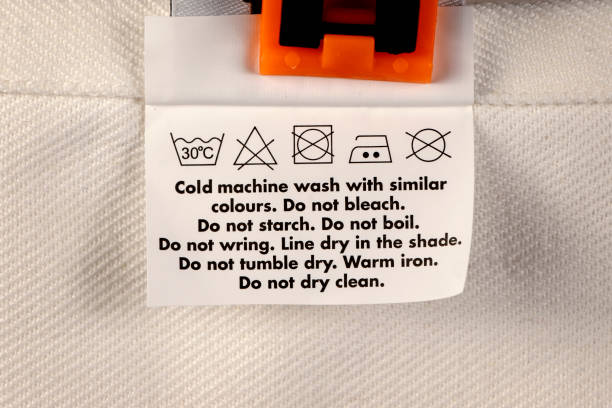ER_iron_medium_temp: (345, 131, 396, 164)
ER_no_bleach: (231, 124, 280, 173)
ER_no_dry_clean: (402, 124, 456, 166)
ER_no_tumble_dry: (287, 120, 336, 168)
ER_wash_30: (163, 126, 227, 171)
